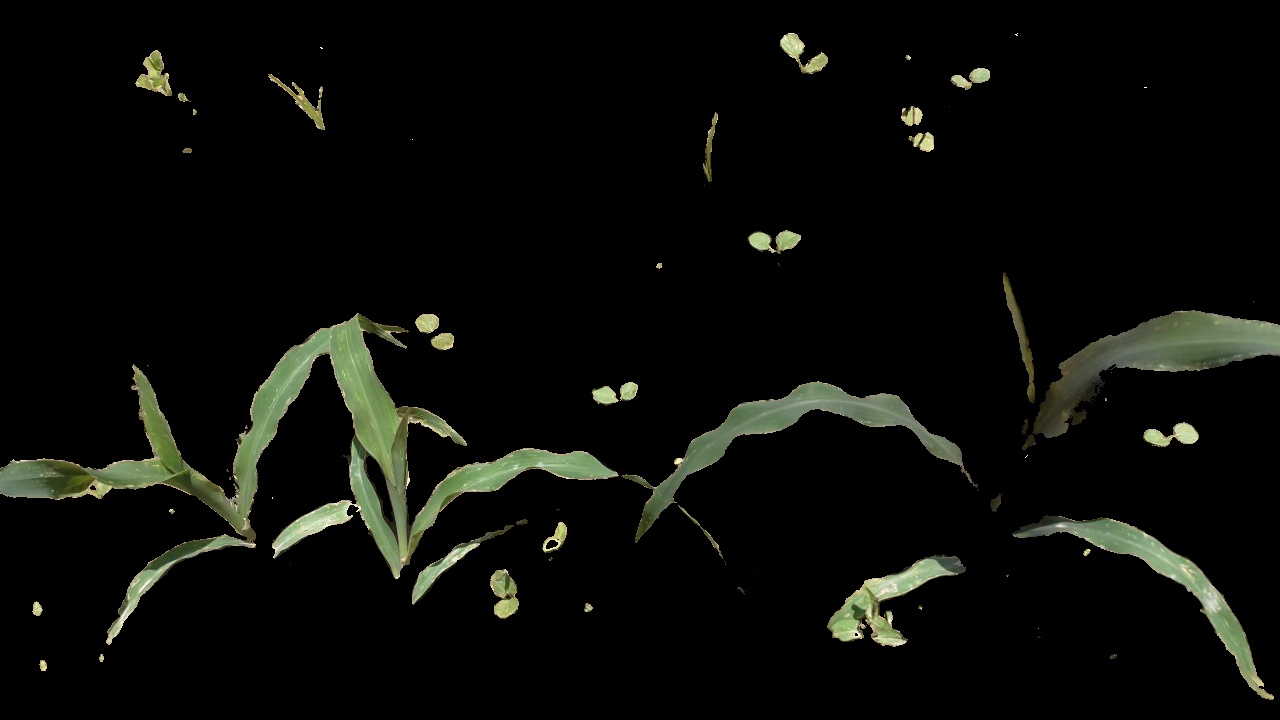crop: (637, 258, 1280, 682), (1, 323, 309, 634), (330, 298, 587, 632)
weed: (251, 59, 344, 145), (121, 33, 198, 129), (689, 78, 721, 184), (778, 30, 831, 84), (1138, 420, 1211, 456), (893, 92, 931, 159), (486, 566, 525, 626), (420, 313, 467, 361), (582, 368, 641, 404), (941, 59, 999, 95), (751, 224, 815, 255), (543, 521, 566, 553)
